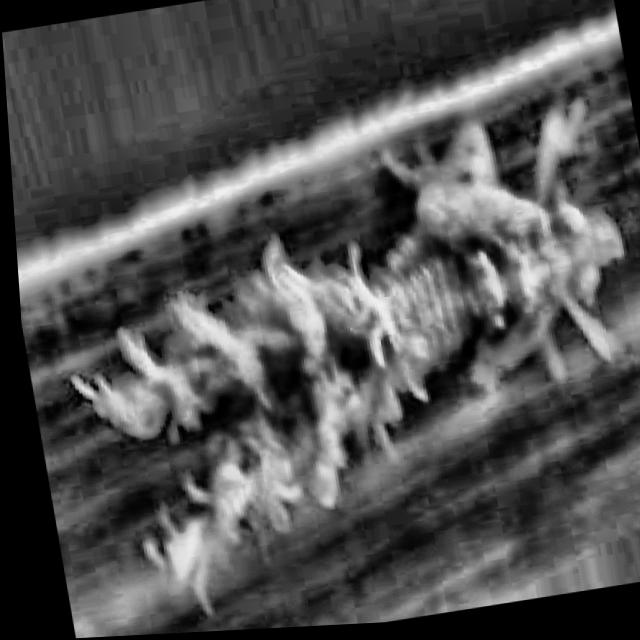Pyrilla-perpusilla: (17, 80, 640, 630)
